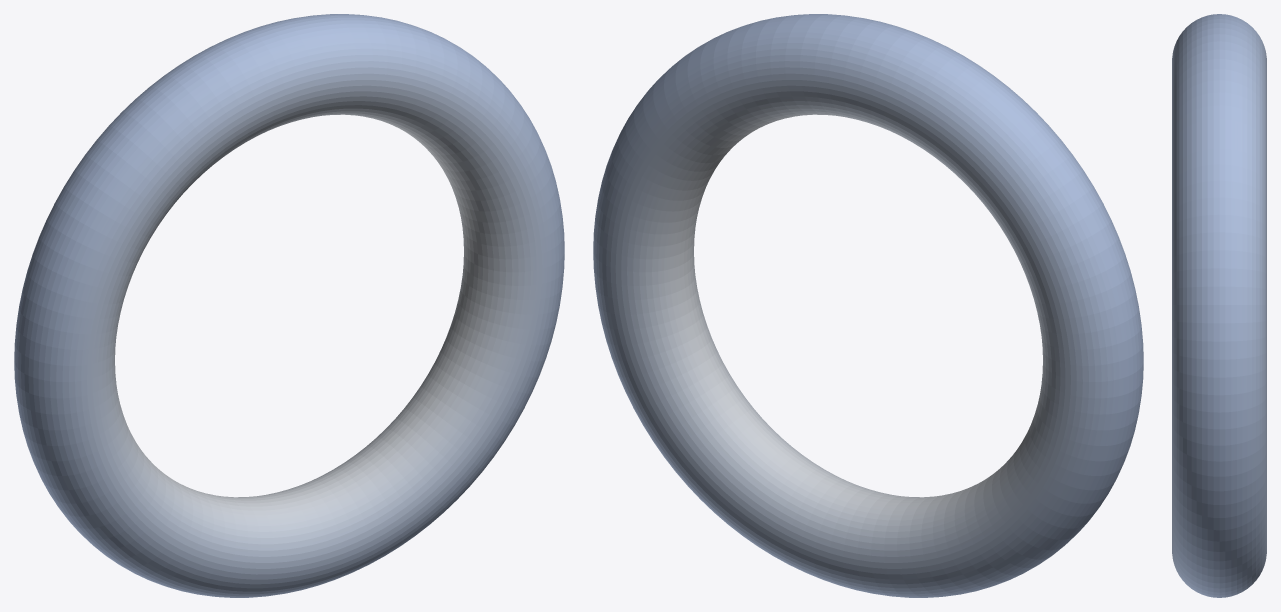
The picture shows the model from 3 angles, left to right: view 1: azimuth 30°, elevation 25°; view 2: azimuth 150°, elevation 25°; view 3: azimuth 270°, elevation 25°; orthographic projection. The views are drawn at different scales.
Visible parts, largest first — view 1: world; view 2: world; view 3: world.
Part boxes in pixels (left/top/right/bottom): world: left=14, top=14, right=564, bottom=597; world: left=593, top=14, right=1143, bottom=597; world: left=1172, top=14, right=1266, bottom=597.
Size of the model in its own units: 27.07 by 27.07 by 4.39.
